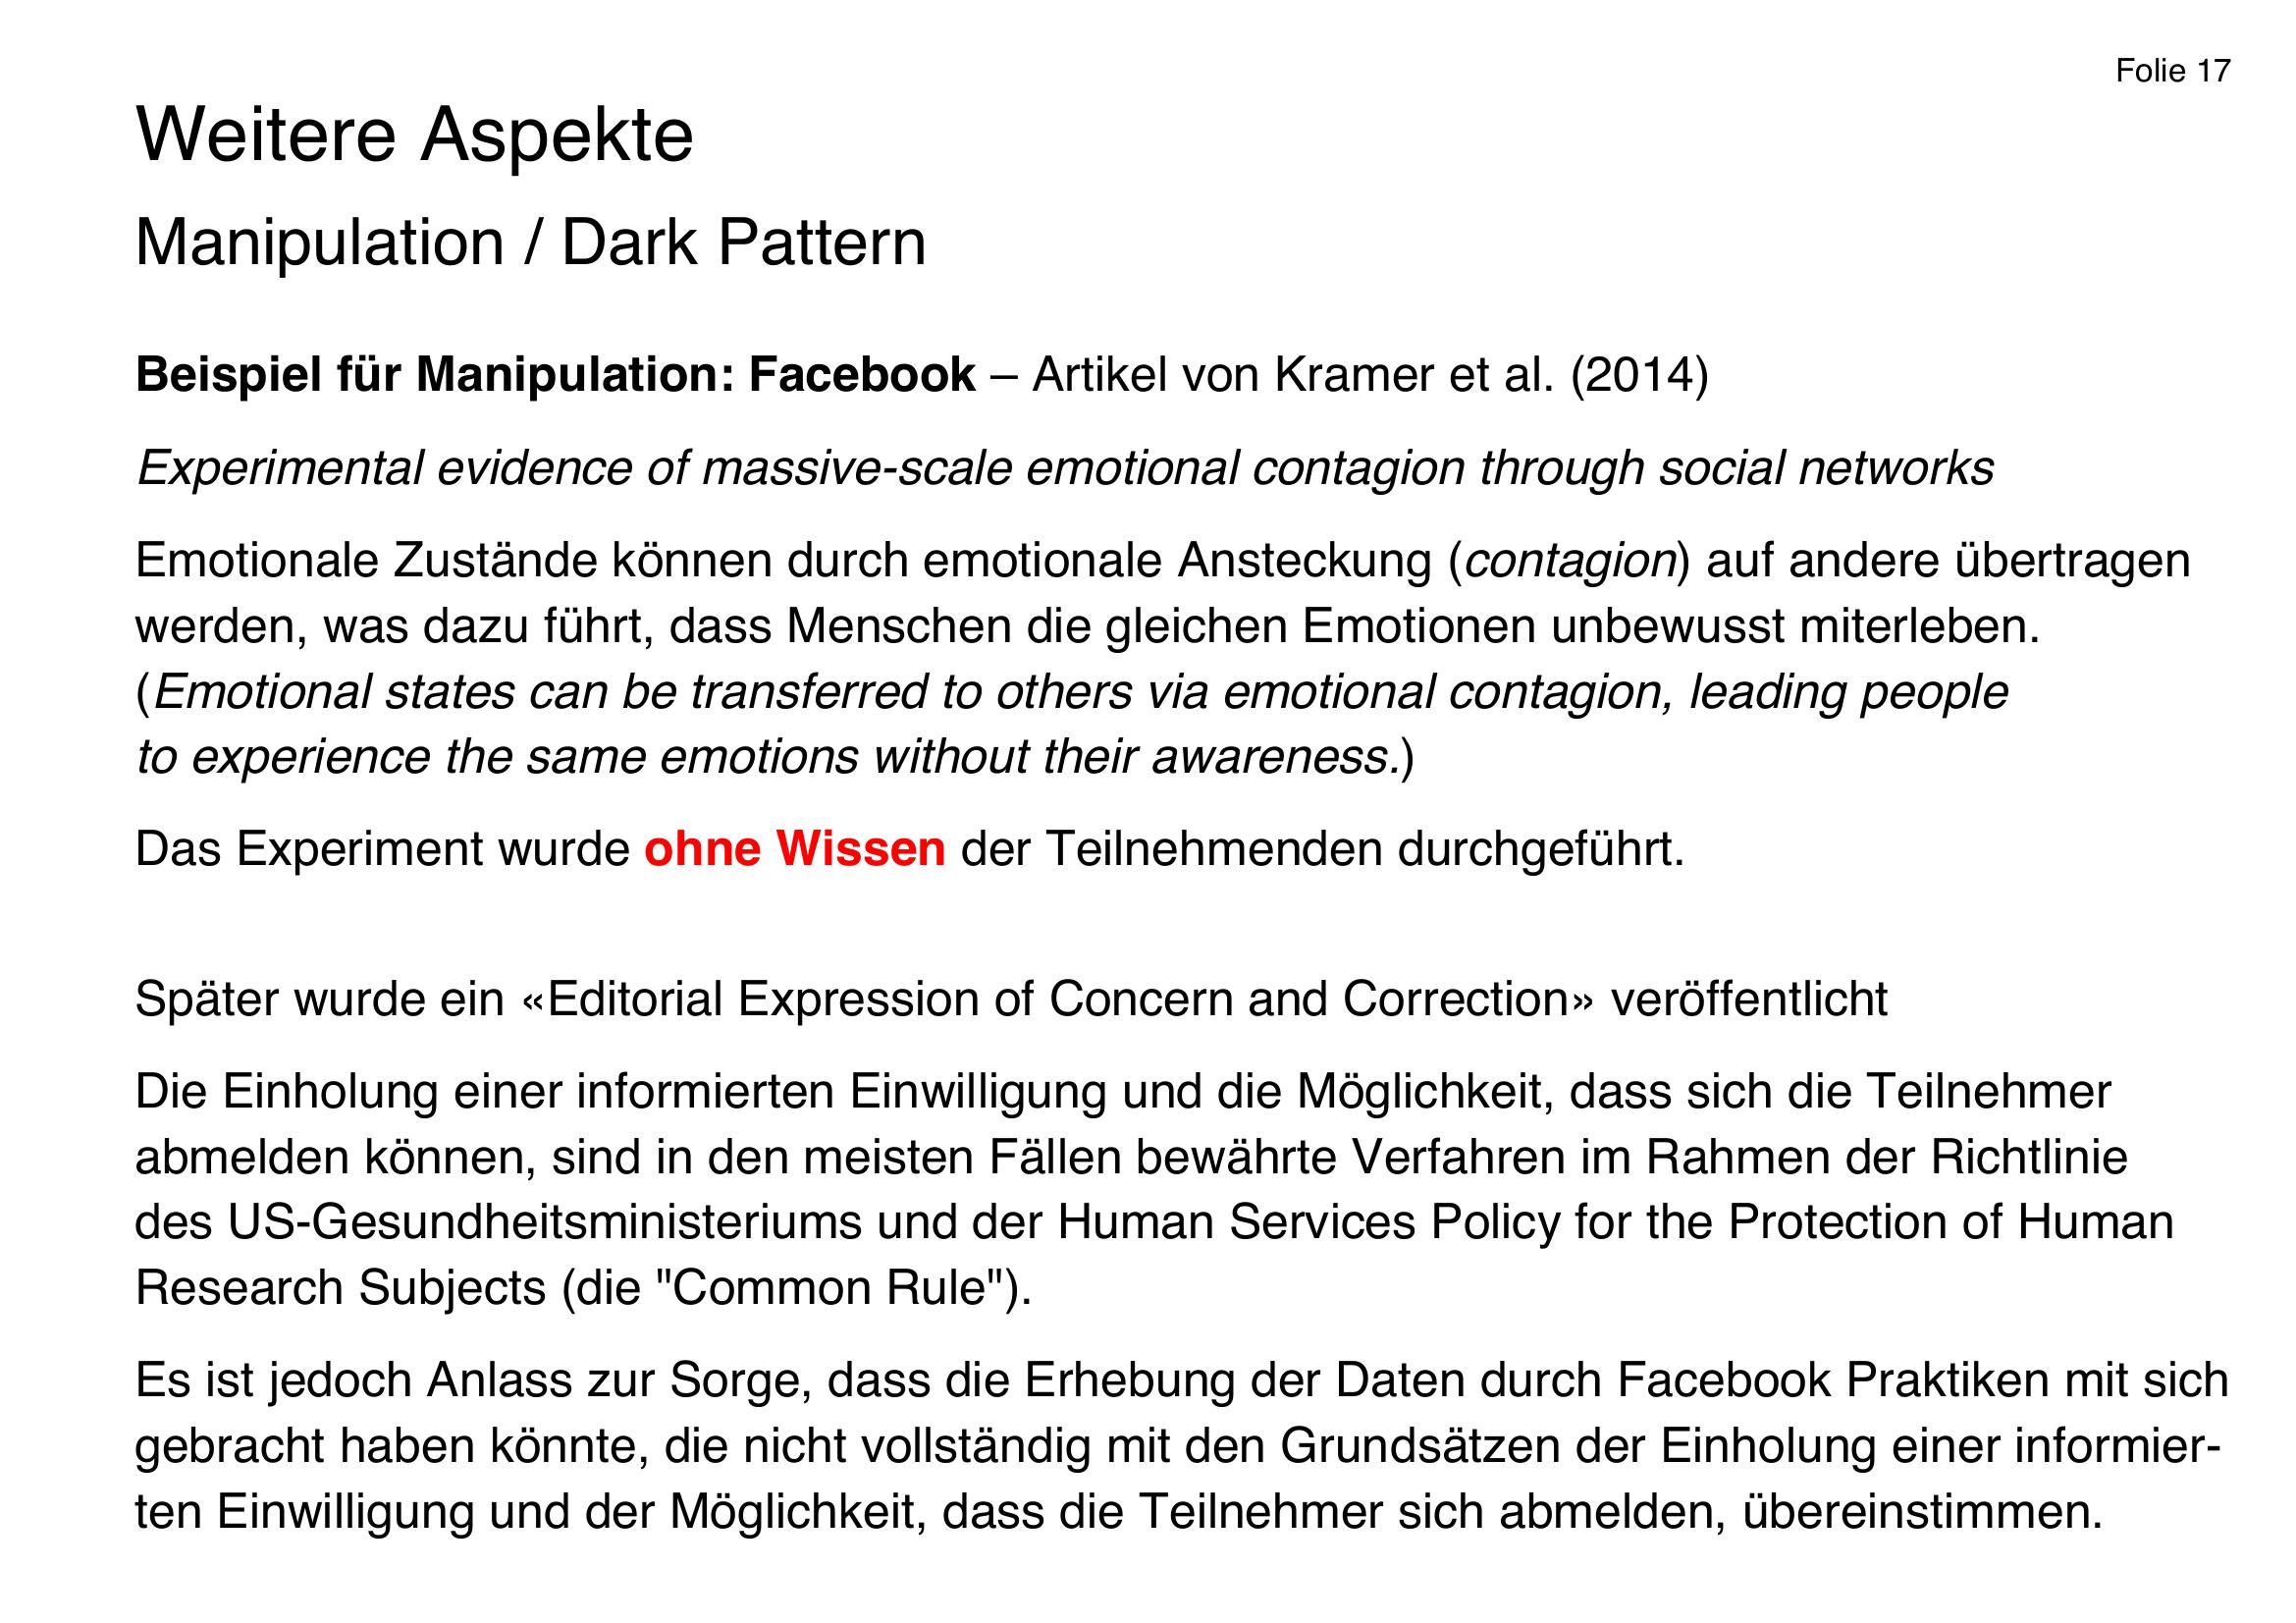Title: (119, 86, 706, 198)
